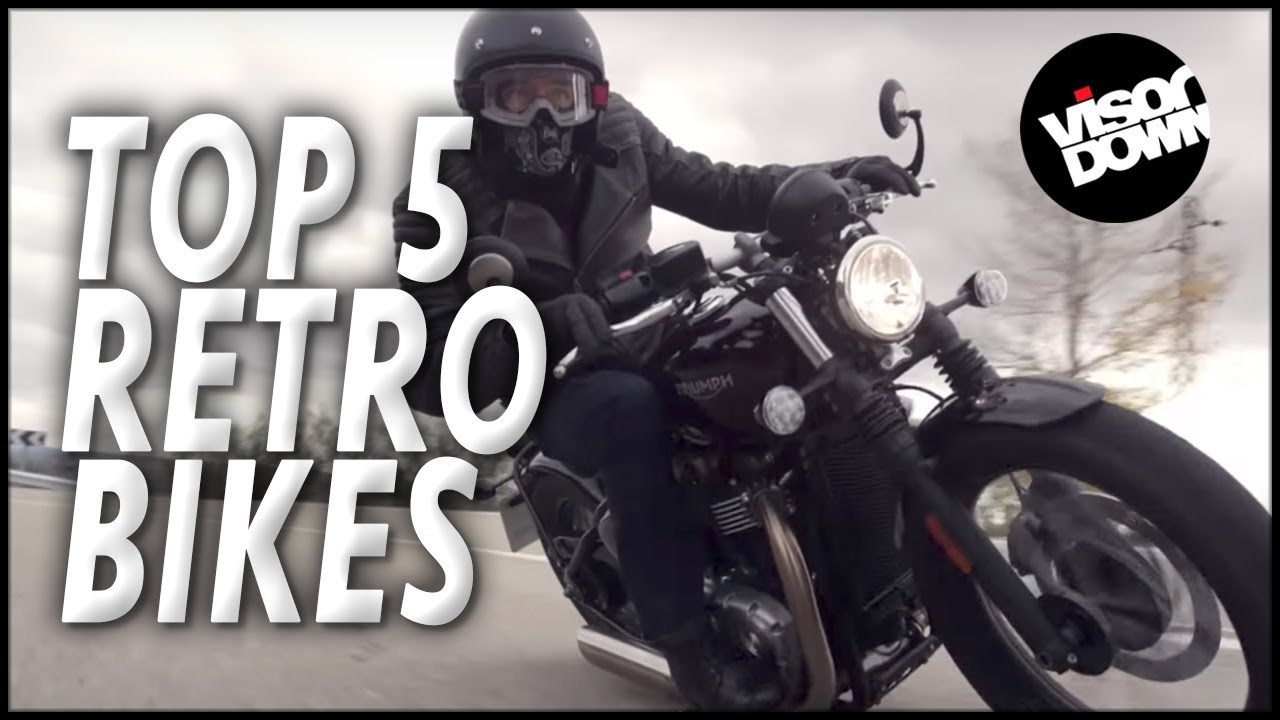with_helmet: (443, 4, 610, 187)
